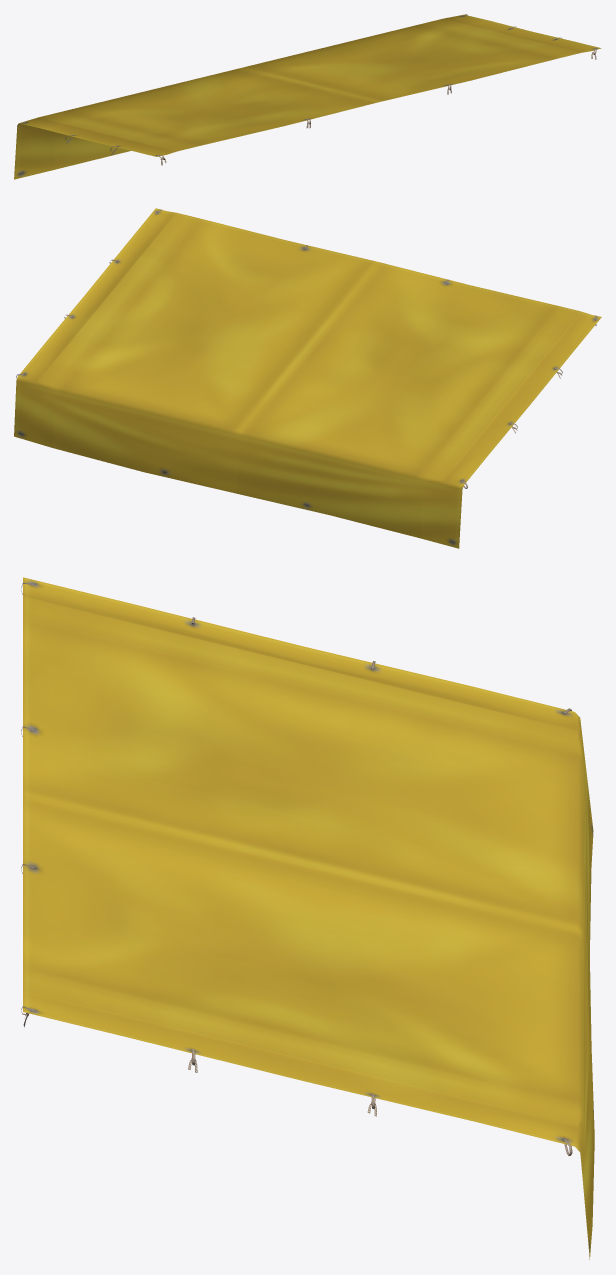
File: jsf_Ceiling_s04_c05_t01.fbx
3 renders of one model, top to bottom at view 1: azimuth 30°, elevation 25°; view 2: azimuth 150°, elevation 25°; view 3: azimuth 270°, elevation 25°, orthographic. The views are drawn at different scales.
Visible parts, largest first — view 1: jsf_Ceiling_s04_c05_t01; view 2: jsf_Ceiling_s04_c05_t01; view 3: jsf_Ceiling_s04_c05_t01.
Part boxes in pixels (<box>): jsf_Ceiling_s04_c05_t01: <box>14,14,601,179</box>; jsf_Ceiling_s04_c05_t01: <box>14,208,601,548</box>; jsf_Ceiling_s04_c05_t01: <box>21,577,594,1259</box>.
Size of the model in its own units: 394 by 106 by 216.
